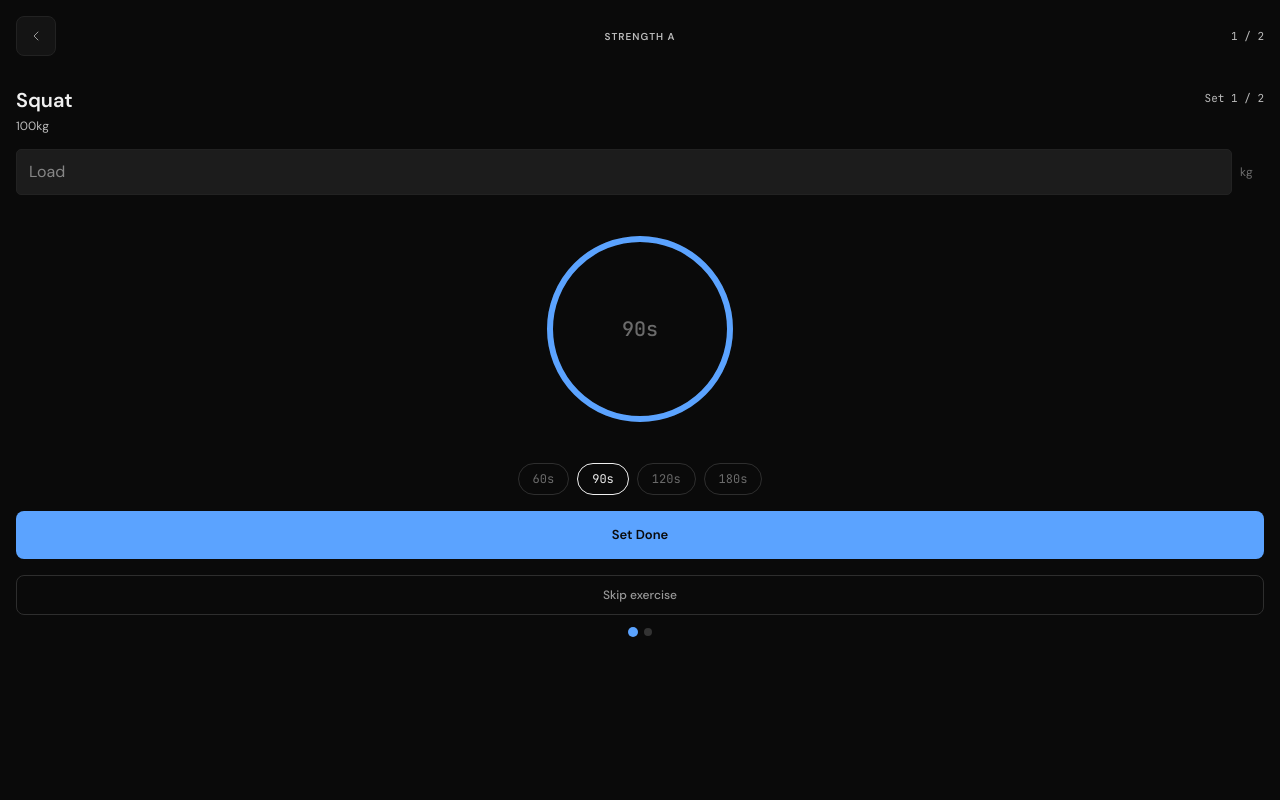
Test: WorkoutMode — skip exercise › skips to next exercise
Step 1. Click the button "Skip exercise" → [640, 594], box [16,574,1264,614]
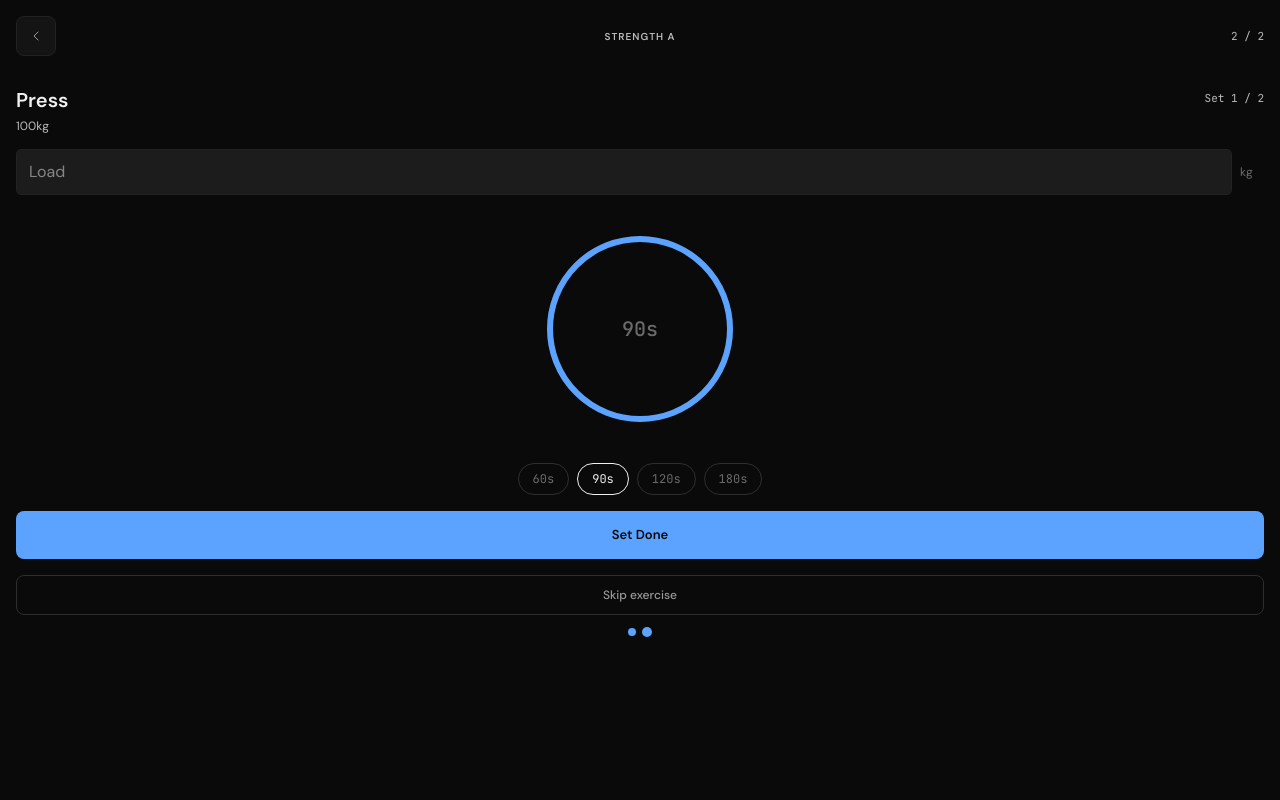
Expected: the text "Press" is shown, [16,87,69,113]
